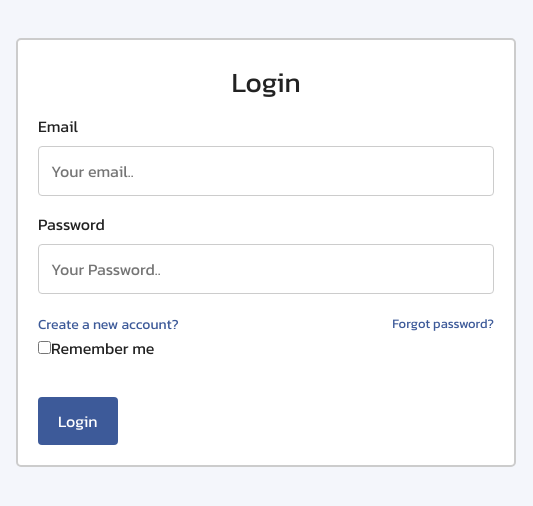
Test case: Login - field validation › shows error when email is empty
Click the button showing "Login": (78,422) [38,398,118,446]
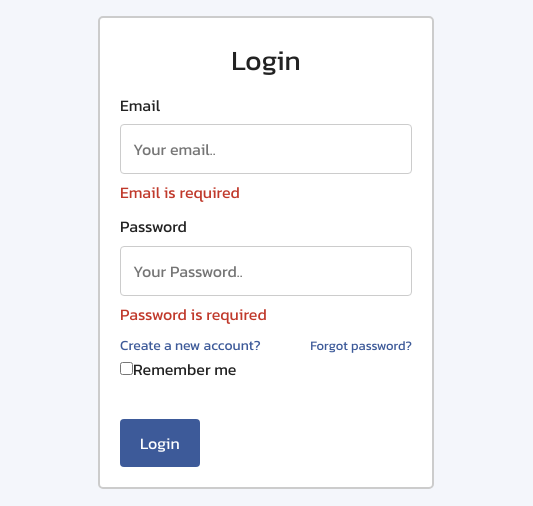
Now the text "Email is required" is shown, box [120,180,240,204]
